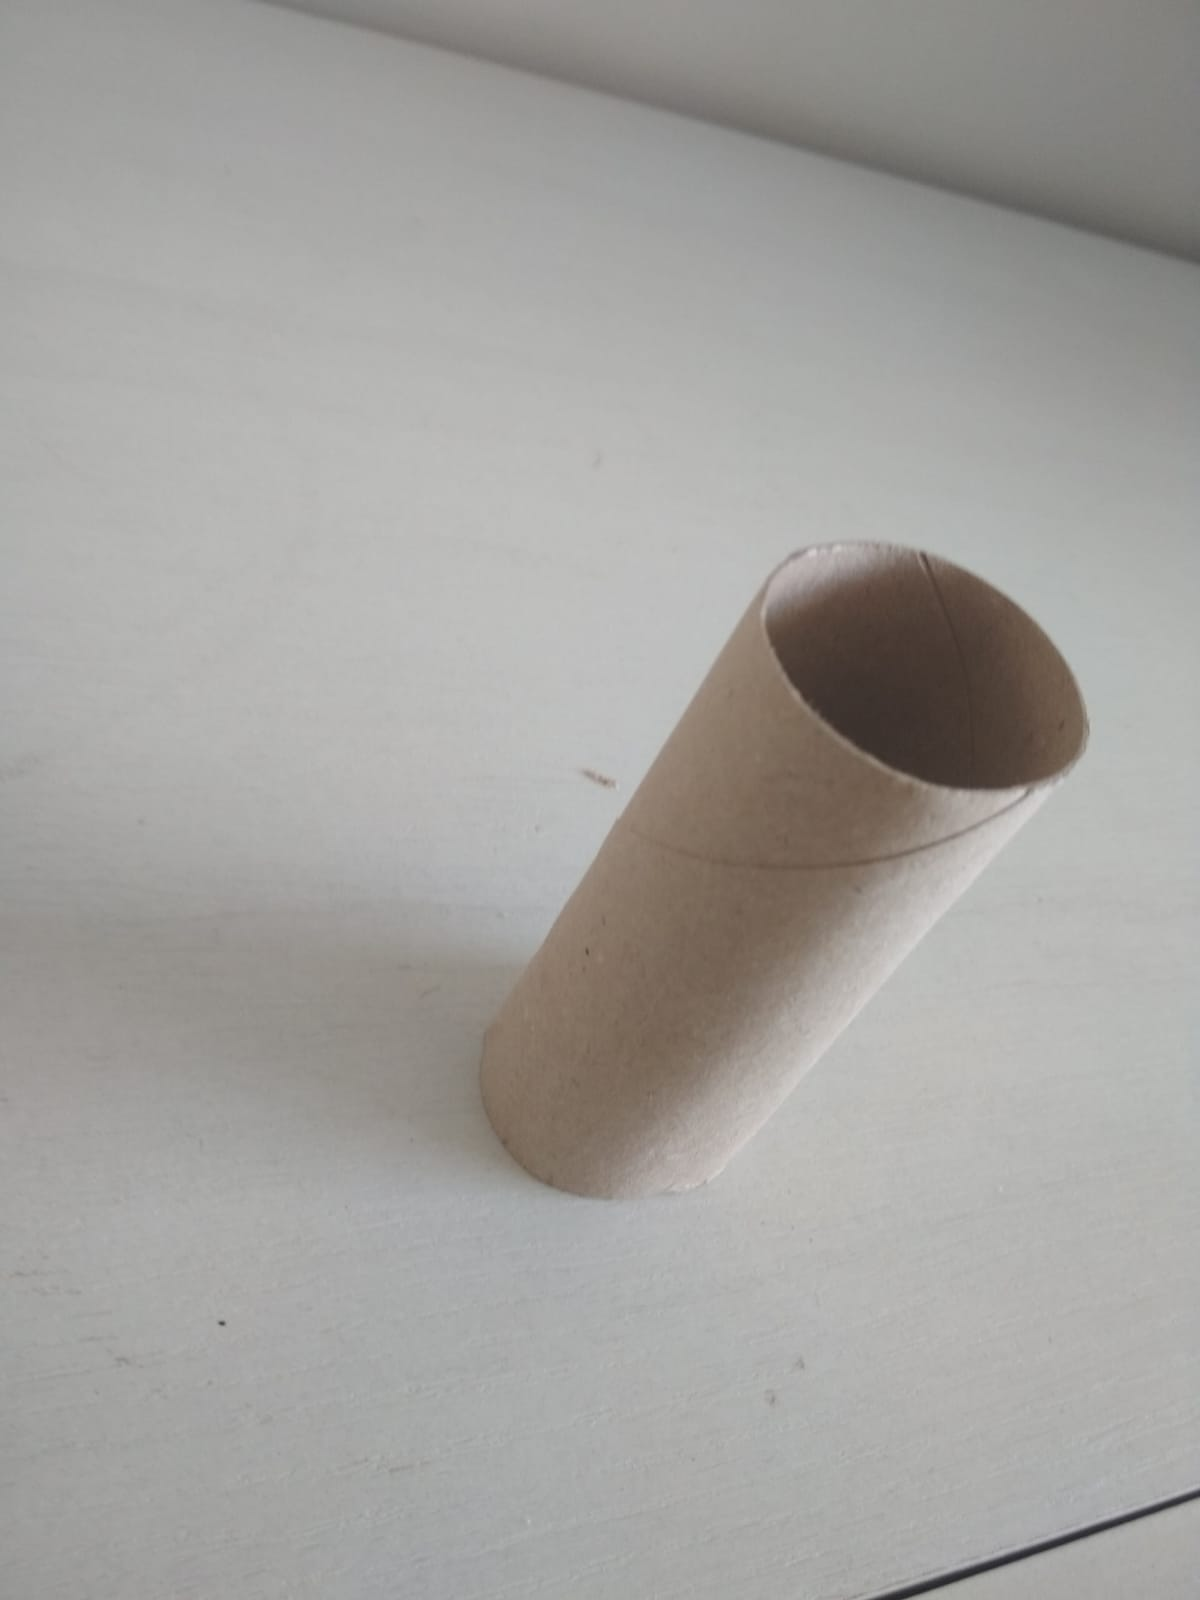rollo papel: (476, 527, 1092, 1201)
